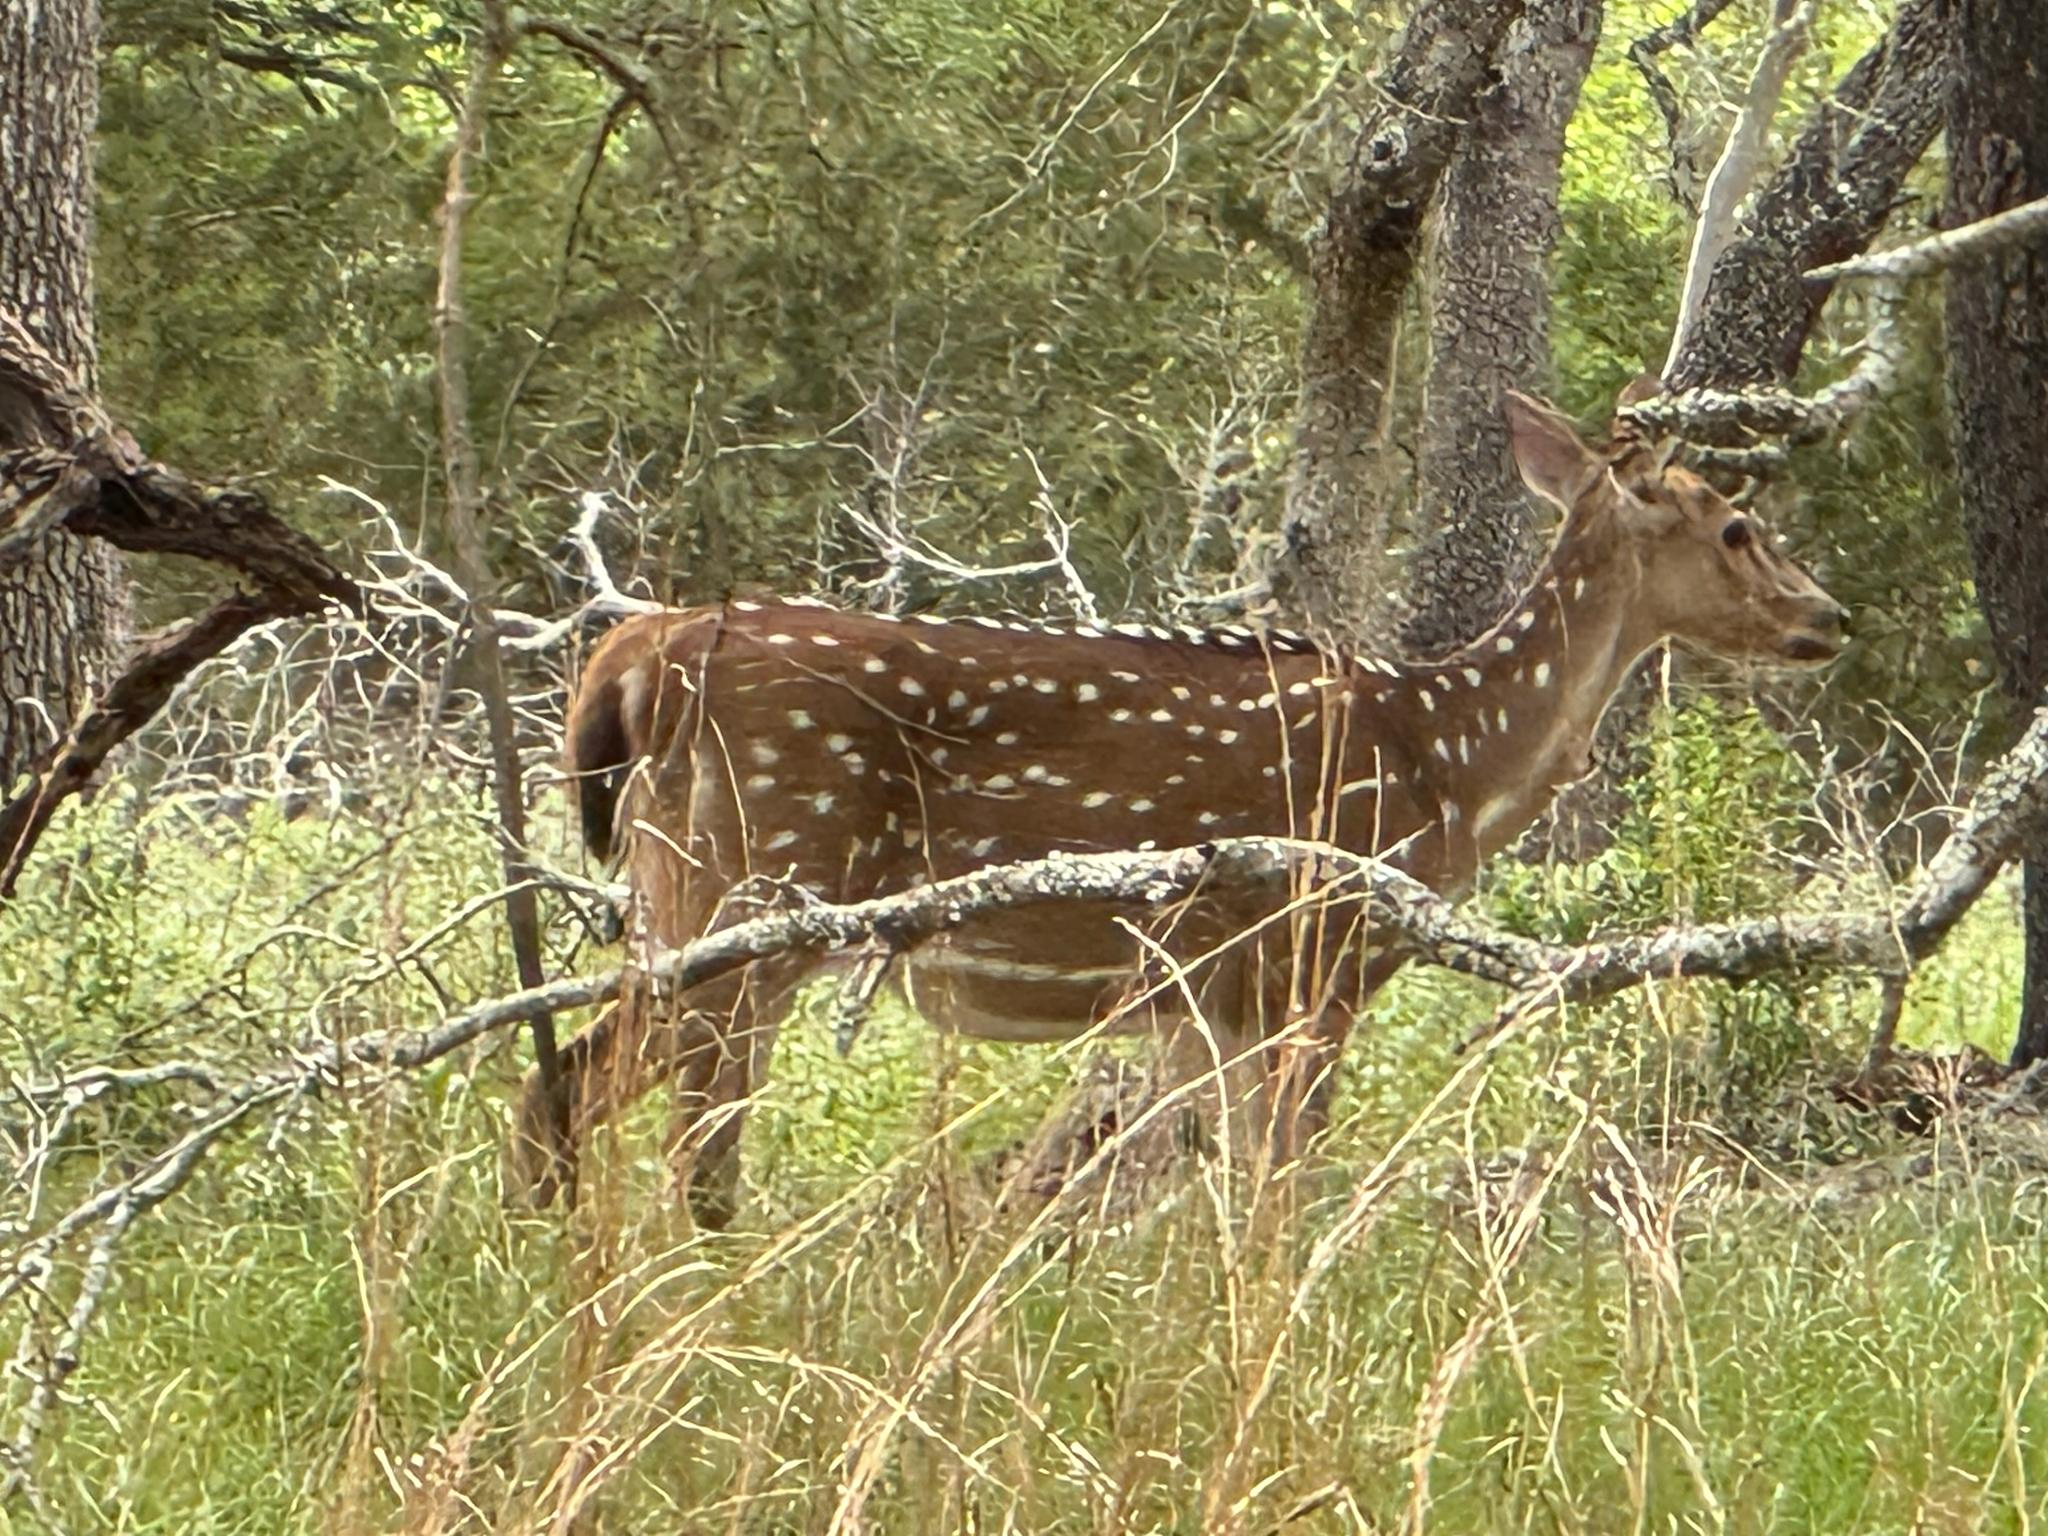Deer: (564, 395, 1846, 958), (897, 878, 1405, 1162), (513, 950, 847, 1231)
